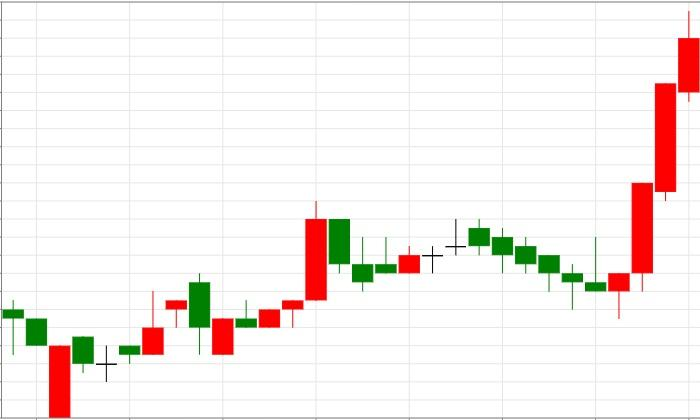three_white_soldiers_rise: (469, 11, 700, 319)
